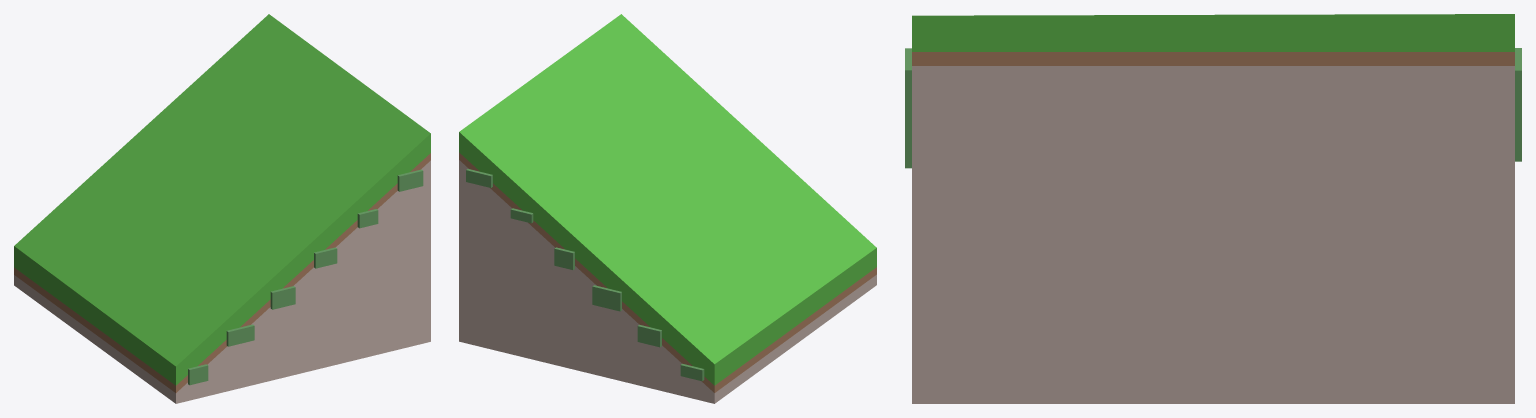
Rendered from Platform_GrassRamp.fbx.
3 views of the same model, side by side, from view 1: azimuth 30°, elevation 25°; view 2: azimuth 150°, elevation 25°; view 3: azimuth 270°, elevation 25° (orthographic). The views are drawn at different scales.
Parts seen in each view (by area): view 1: Platform_GrassRamp_Grass, Platform_GrassRamp_Stone, Platform_GrassRamp_Dirt, Platform_GrassRamp; view 2: Platform_GrassRamp_Grass, Platform_GrassRamp_Stone, Platform_GrassRamp_Dirt, Platform_GrassRamp; view 3: Platform_GrassRamp_Stone, Platform_GrassRamp_Grass, Platform_GrassRamp_Dirt, Platform_GrassRamp.
Boxes of the visible parts, <box> form: Platform_GrassRamp_Grass: <box>14,14,430,385</box>; Platform_GrassRamp_Stone: <box>14,160,430,403</box>; Platform_GrassRamp_Dirt: <box>14,153,430,392</box>; Platform_GrassRamp: <box>188,169,423,385</box>; Platform_GrassRamp_Grass: <box>459,14,876,385</box>; Platform_GrassRamp_Stone: <box>459,160,876,403</box>; Platform_GrassRamp_Dirt: <box>459,152,876,392</box>; Platform_GrassRamp: <box>466,169,704,381</box>; Platform_GrassRamp_Stone: <box>912,66,1514,403</box>; Platform_GrassRamp_Grass: <box>912,14,1514,51</box>; Platform_GrassRamp_Dirt: <box>912,52,1514,65</box>; Platform_GrassRamp: <box>905,48,1521,168</box>.
Size of what is drawn, in the model's own units: 1 by 0.7847 by 1.13.
